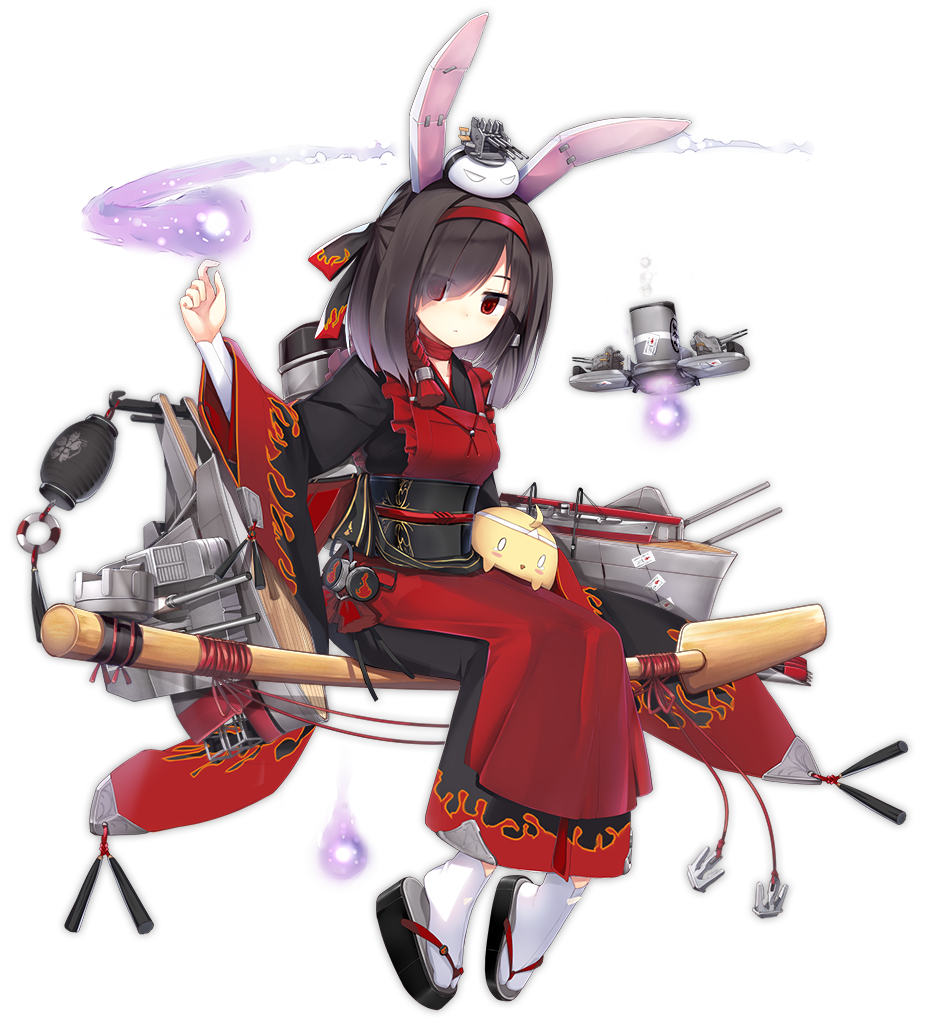person: (166, 154, 697, 1010)
